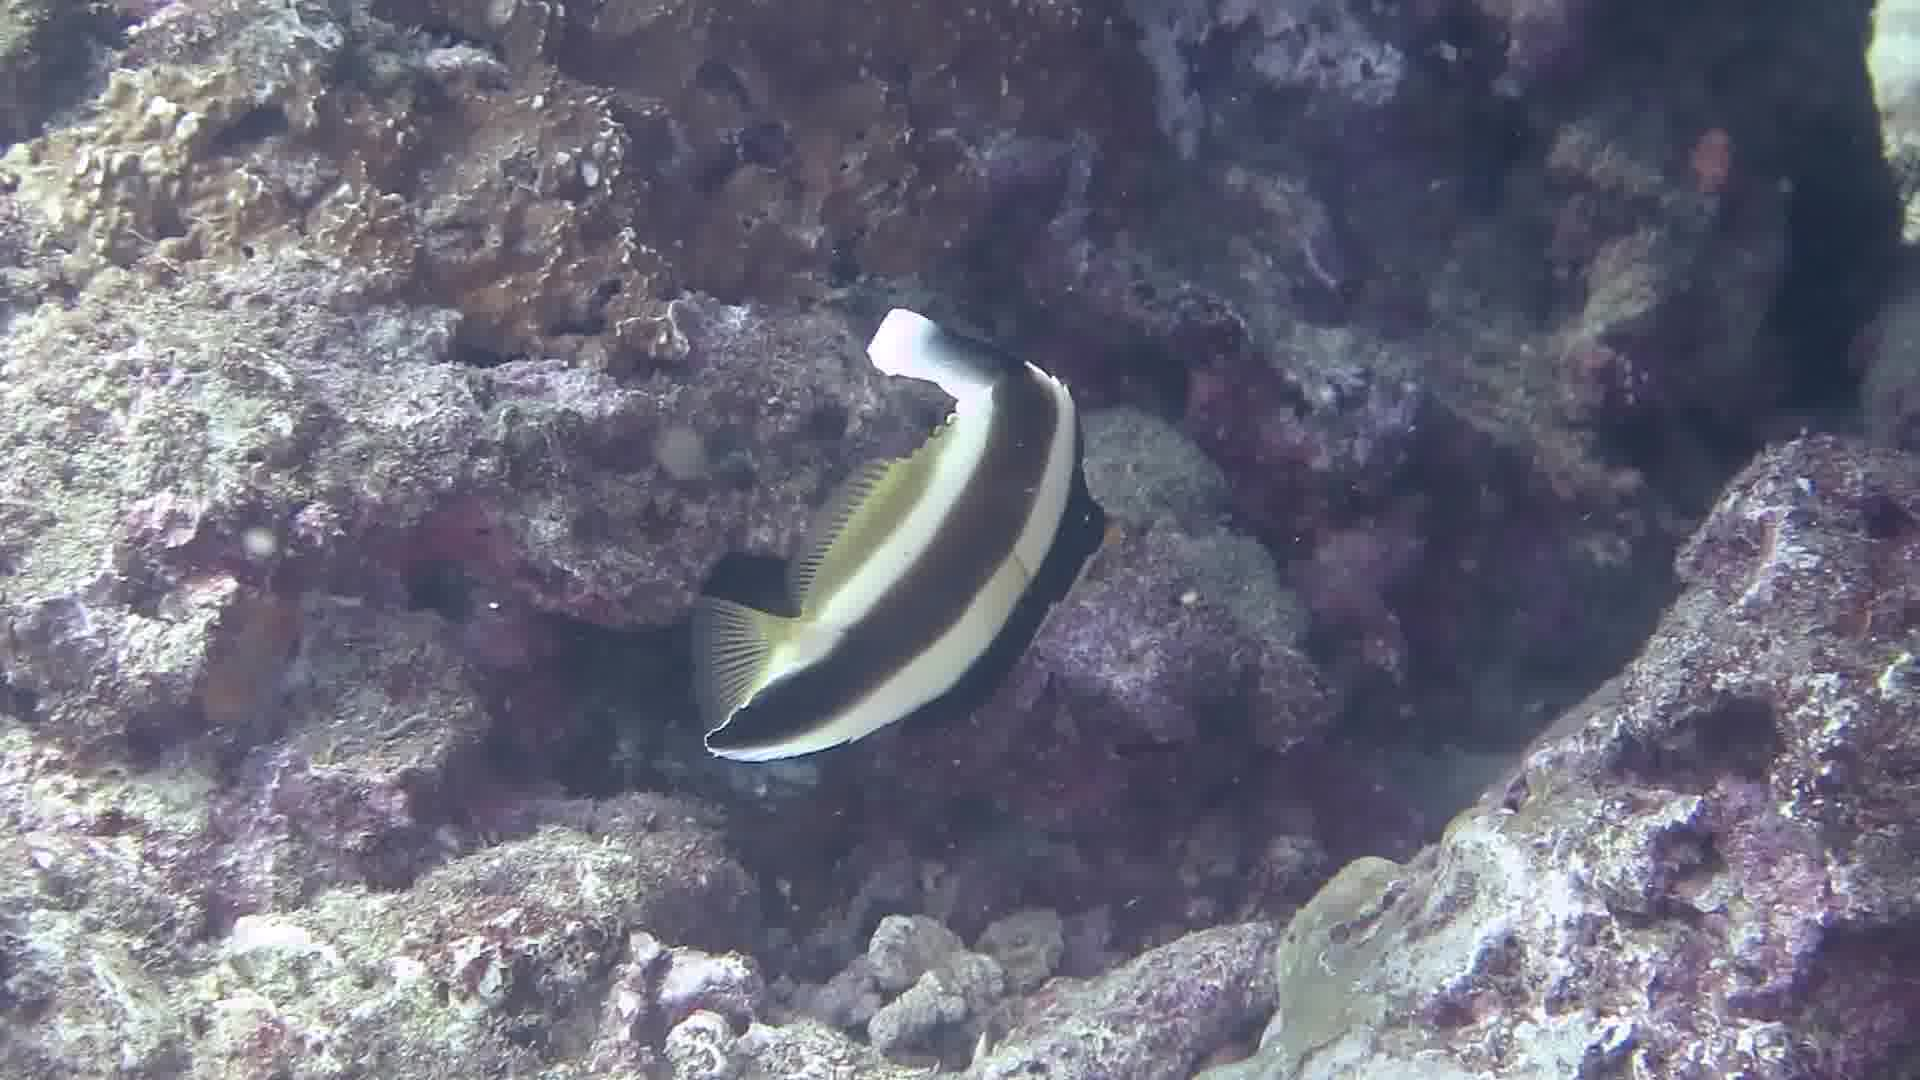Heniochus chrysostomus: (597, 229, 1242, 818)
